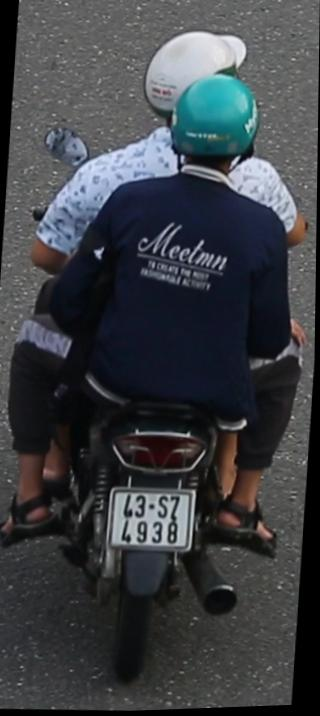LP: (106, 478, 200, 559)
helmet: (159, 71, 272, 205), (136, 20, 259, 125)
